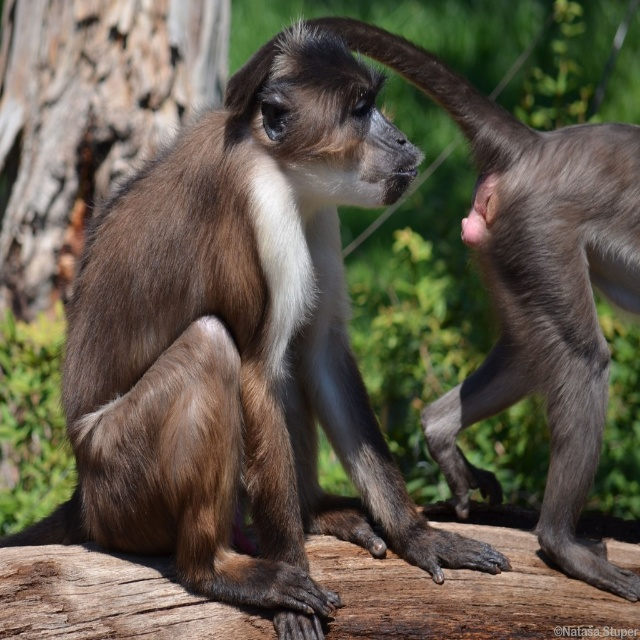Monkey: (0, 18, 509, 640), (220, 106, 640, 604)
